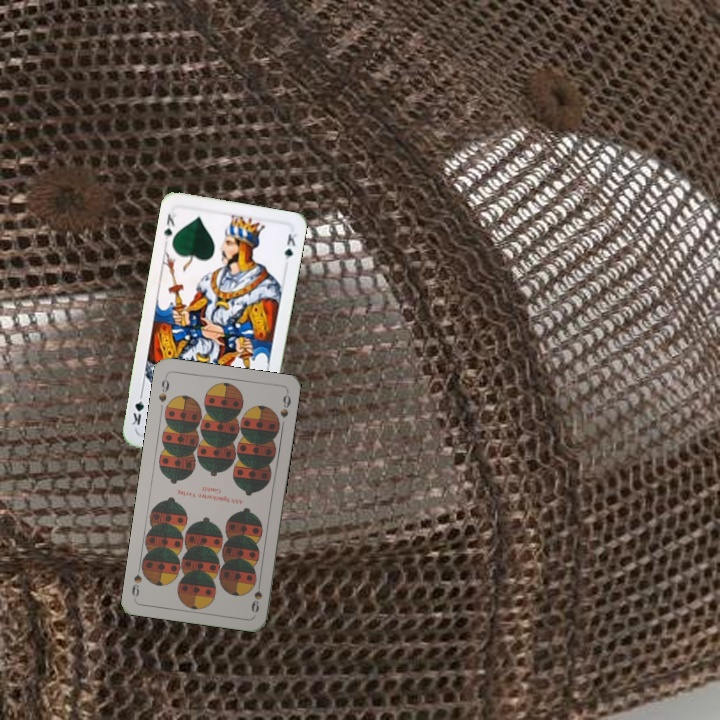GK: (160, 207, 179, 246)
S9: (247, 575, 265, 615), (155, 372, 172, 405)
